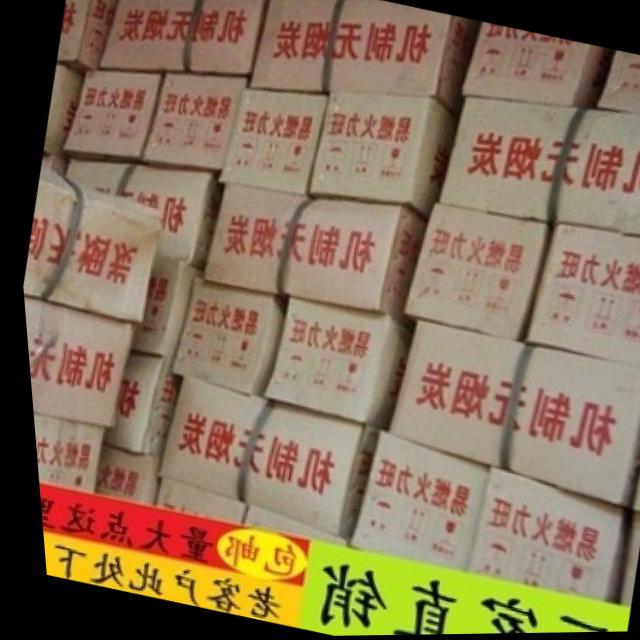box: (382, 324, 640, 510), (149, 376, 372, 537), (200, 181, 422, 327), (432, 98, 640, 236), (247, 0, 478, 111), (448, 470, 612, 620), (18, 165, 158, 322), (255, 299, 409, 431), (342, 433, 481, 574), (401, 203, 544, 340), (304, 97, 452, 220), (59, 157, 214, 274), (514, 229, 640, 371), (19, 297, 127, 426), (165, 278, 280, 397), (96, 0, 266, 76), (460, 28, 612, 111), (219, 89, 328, 195), (138, 73, 246, 172), (60, 73, 160, 161), (89, 355, 172, 461), (120, 258, 200, 363), (27, 415, 93, 497), (85, 444, 152, 514), (142, 478, 235, 527), (234, 507, 335, 549), (55, 0, 115, 70), (40, 65, 79, 155), (592, 53, 640, 115), (607, 515, 633, 611)
